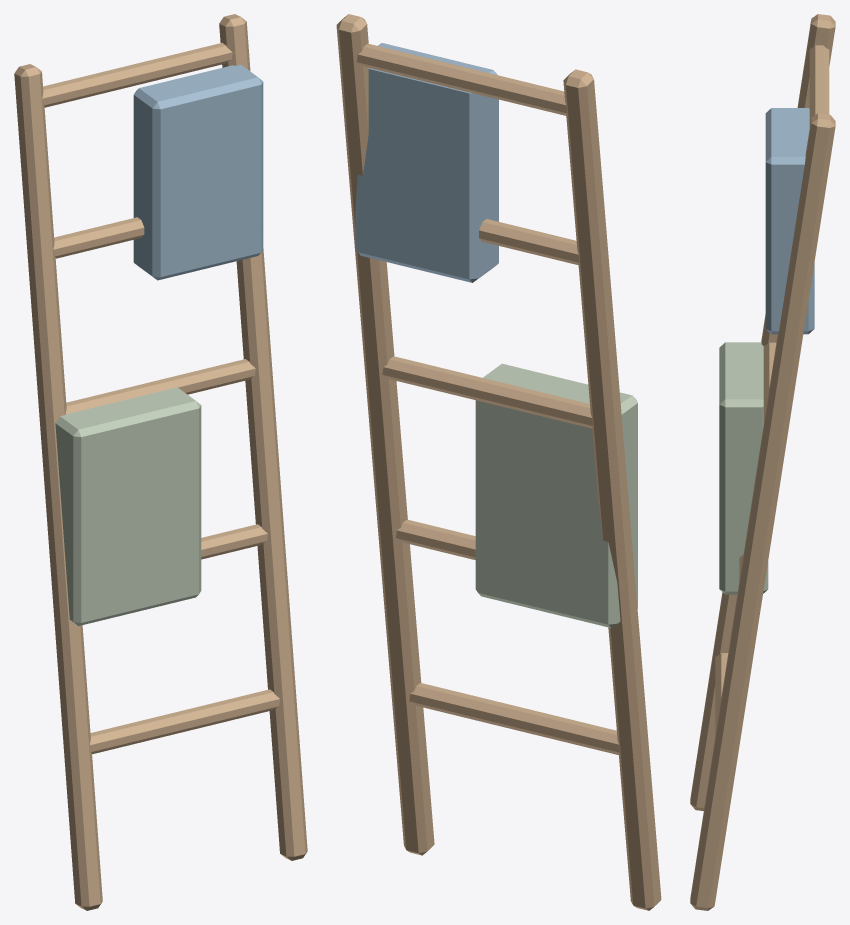
Rendered from TowelLadder.glb.
The picture shows the model from 3 angles, left to right: view 1: azimuth 30°, elevation 25°; view 2: azimuth 150°, elevation 25°; view 3: azimuth 270°, elevation 25°; orthographic projection. The views are drawn at different scales.
Visible parts, largest first — view 1: TowelLadder_Body; view 2: TowelLadder_Body; view 3: TowelLadder_Body.
Boxes of the visible parts, x1=… form: TowelLadder_Body: x1=14, y1=14, x2=307, y2=910; TowelLadder_Body: x1=336, y1=14, x2=661, y2=910; TowelLadder_Body: x1=690, y1=14, x2=835, y2=910.
Bounding box in the file's own units: 0.53 × 1.79 × 0.2967.
